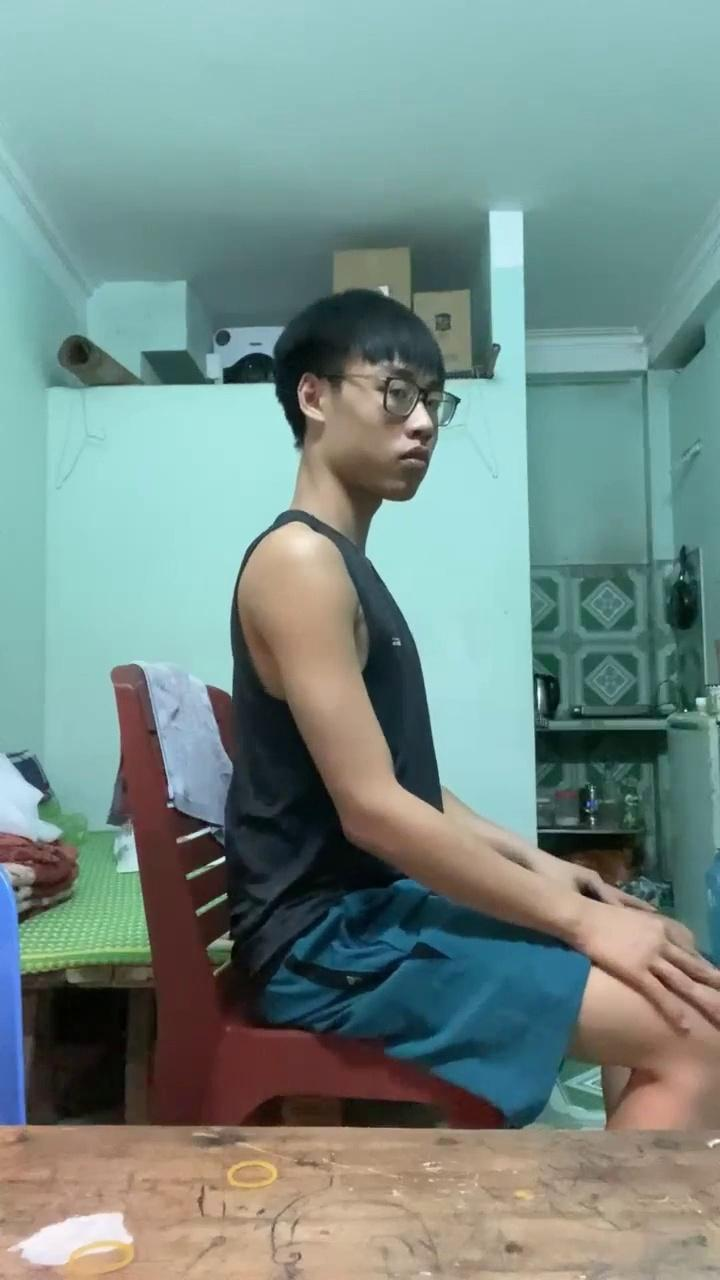GoodPosture: (225, 289, 719, 1130)
